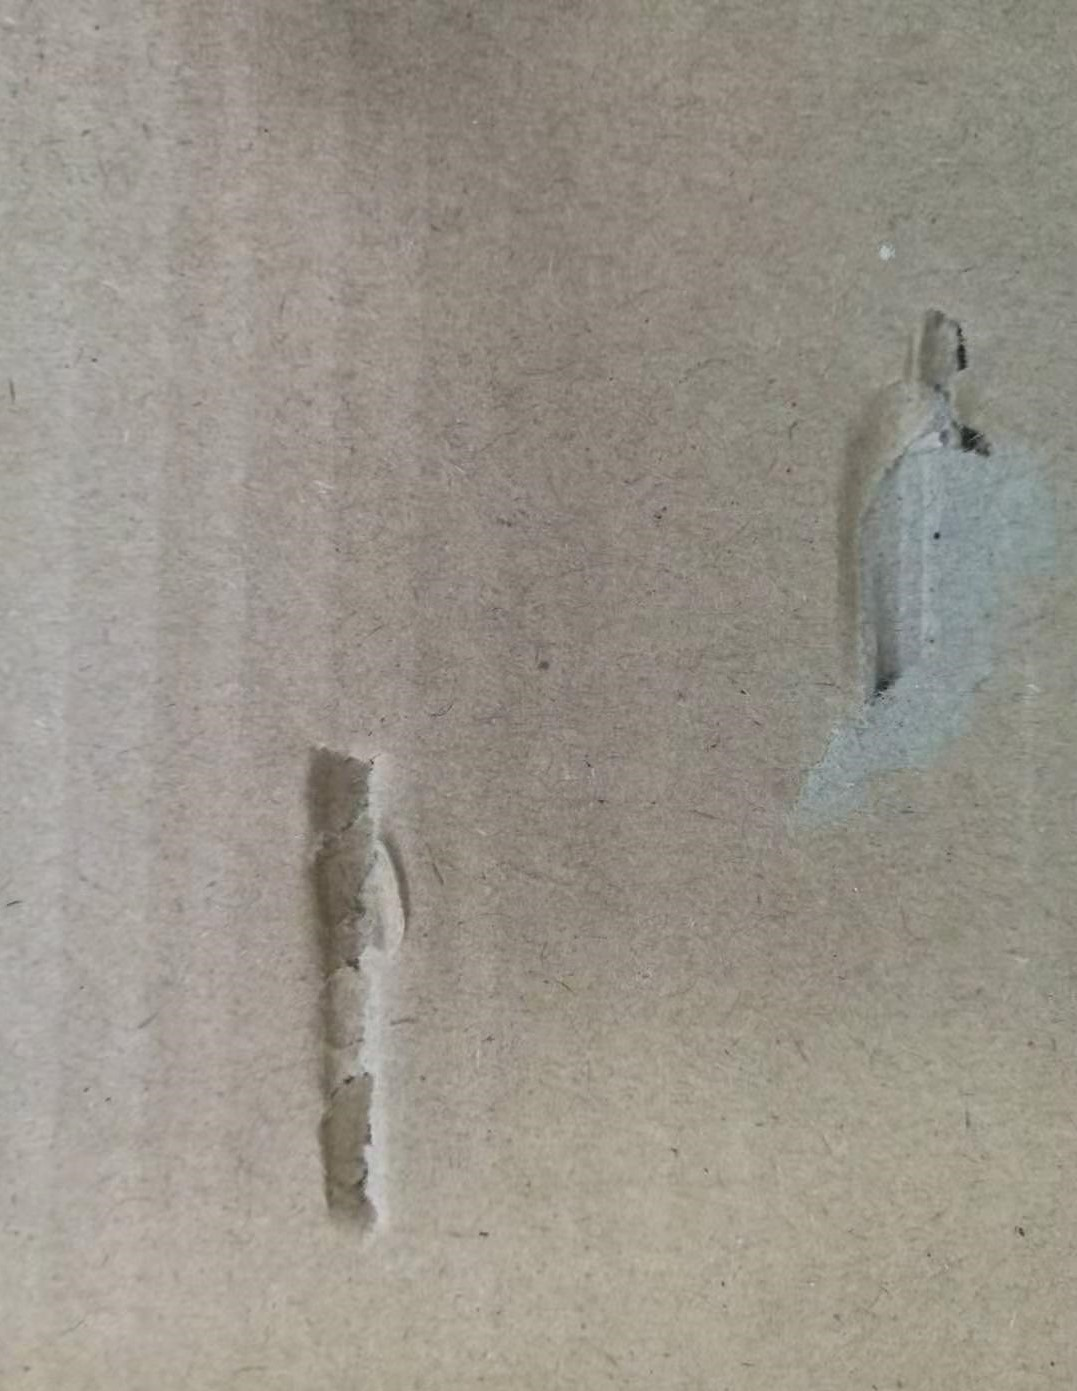defect: (744, 280, 1077, 836), (259, 685, 454, 1263)
